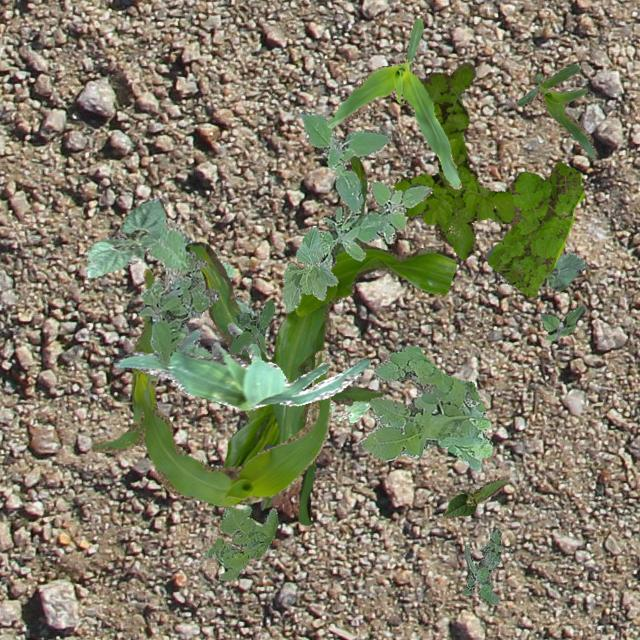crop: (184, 155, 454, 524), (90, 268, 330, 506), (112, 320, 370, 410), (326, 18, 460, 188), (516, 64, 596, 158), (84, 196, 164, 276), (282, 226, 336, 312), (498, 252, 584, 290), (442, 476, 508, 518), (328, 399, 370, 422)
weed: (392, 62, 514, 260), (298, 110, 431, 270), (358, 344, 490, 470), (146, 220, 268, 356), (484, 162, 584, 296), (136, 250, 218, 366), (204, 504, 278, 580), (459, 528, 502, 604), (228, 298, 274, 354), (540, 304, 584, 340)
